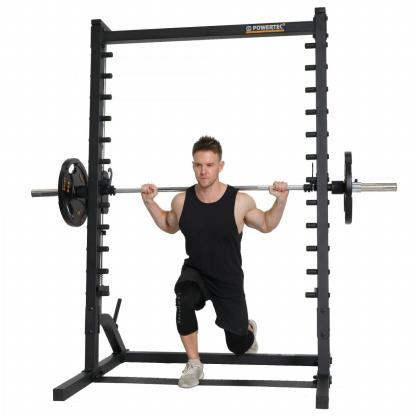smith machine: (31, 7, 396, 408)
